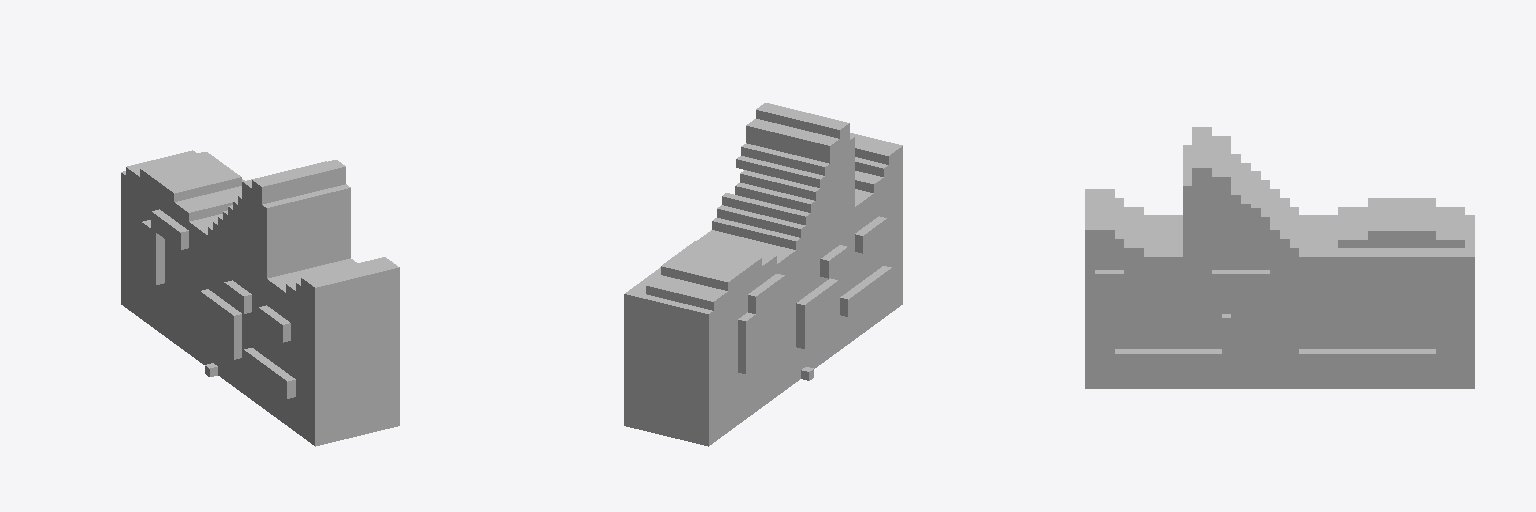
The model's file is Broken Wall.obj.
3 renders of one model, left to right at view 1: azimuth 30°, elevation 25°; view 2: azimuth 150°, elevation 25°; view 3: azimuth 270°, elevation 25°, orthographic.
Parts seen in each view (by area): view 1: object 1; view 2: object 1; view 3: object 1.
Part boxes in pixels (bbox=[...]): object 1: bbox=[121, 150, 399, 446]; object 1: bbox=[624, 103, 902, 446]; object 1: bbox=[1085, 127, 1474, 388].
Size of the model in its own units: 1.1 by 2.5 by 4.